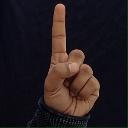hand: (42, 3, 100, 117)
